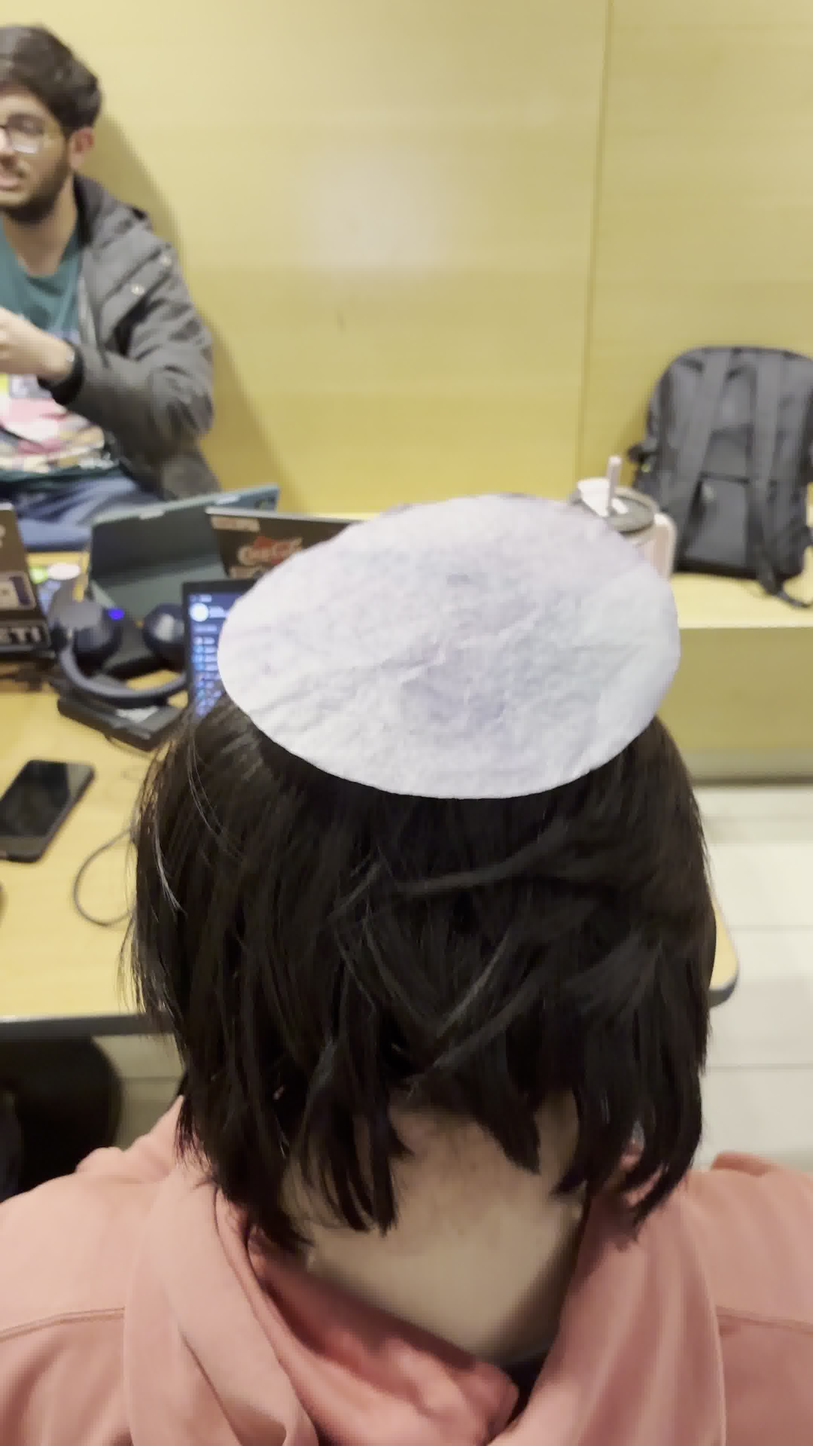Target: (218, 491, 680, 799), (199, 472, 218, 491)
